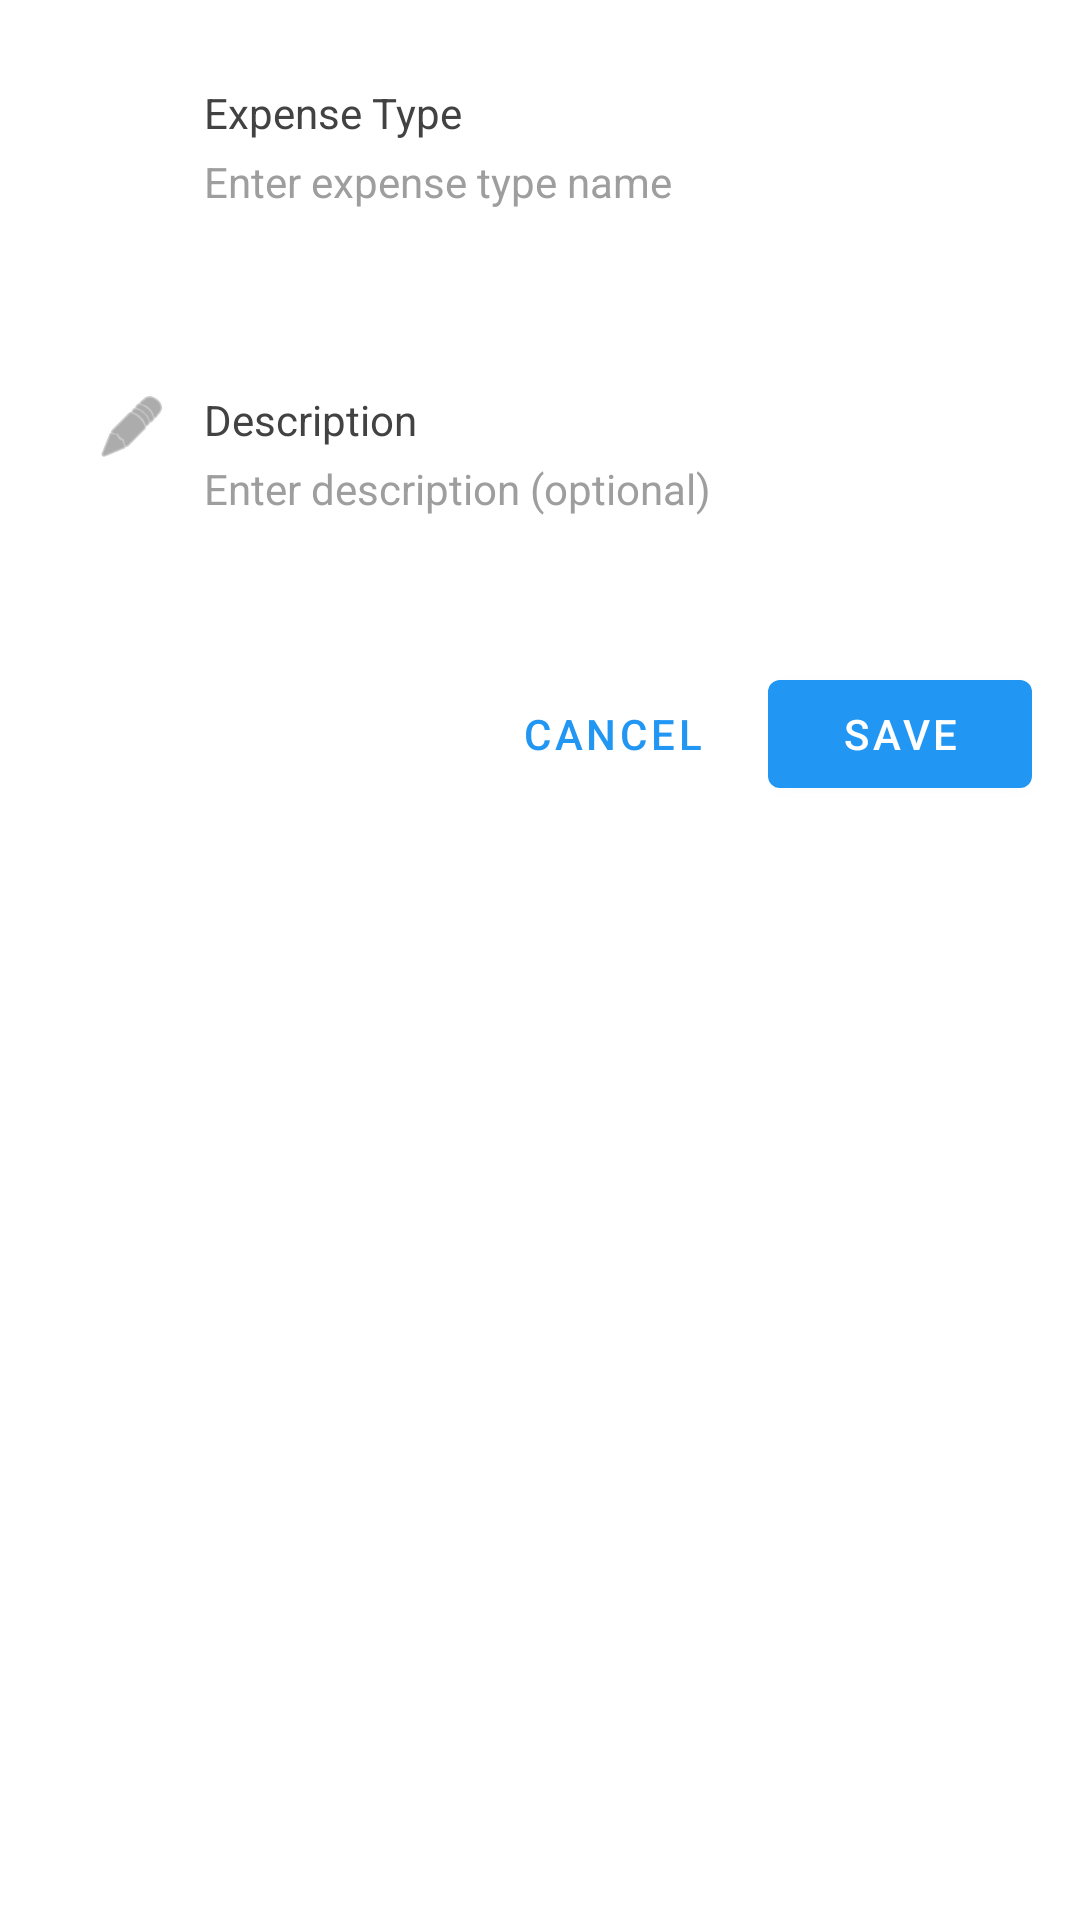

Screen size 1080x1920. Icon name, then its box in pixels as box=[x1, y1, x2, y2]:
edit: box=[101, 396, 162, 457]
